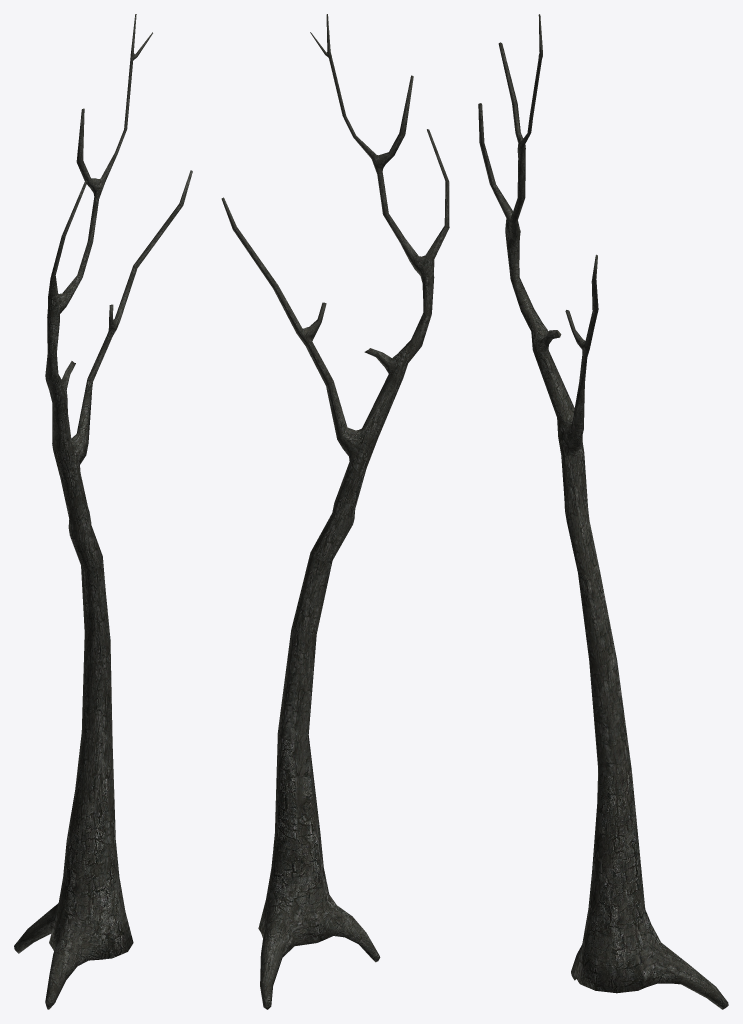
Rendered from DeadTree04.FBX.
The picture shows the model from 3 angles, left to right: view 1: azimuth 30°, elevation 25°; view 2: azimuth 150°, elevation 25°; view 3: azimuth 270°, elevation 25°; orthographic projection. The views are drawn at different scales.
Visible parts, largest first — view 1: TreeDead04:0; view 2: TreeDead04:0; view 3: TreeDead04:0.
Part boxes in pixels (bbox=[...]): TreeDead04:0: bbox=[14, 14, 192, 1009]; TreeDead04:0: bbox=[221, 14, 449, 1009]; TreeDead04:0: bbox=[478, 14, 728, 1009].
Size of the model in its own units: 1.22 by 6 by 1.35.
